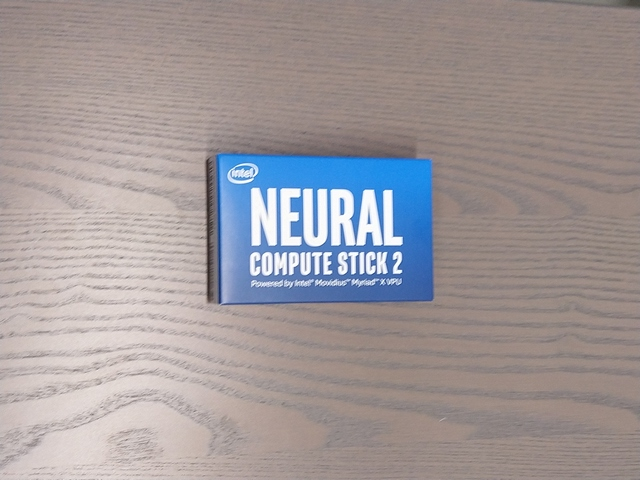box: (205, 152, 435, 306)
